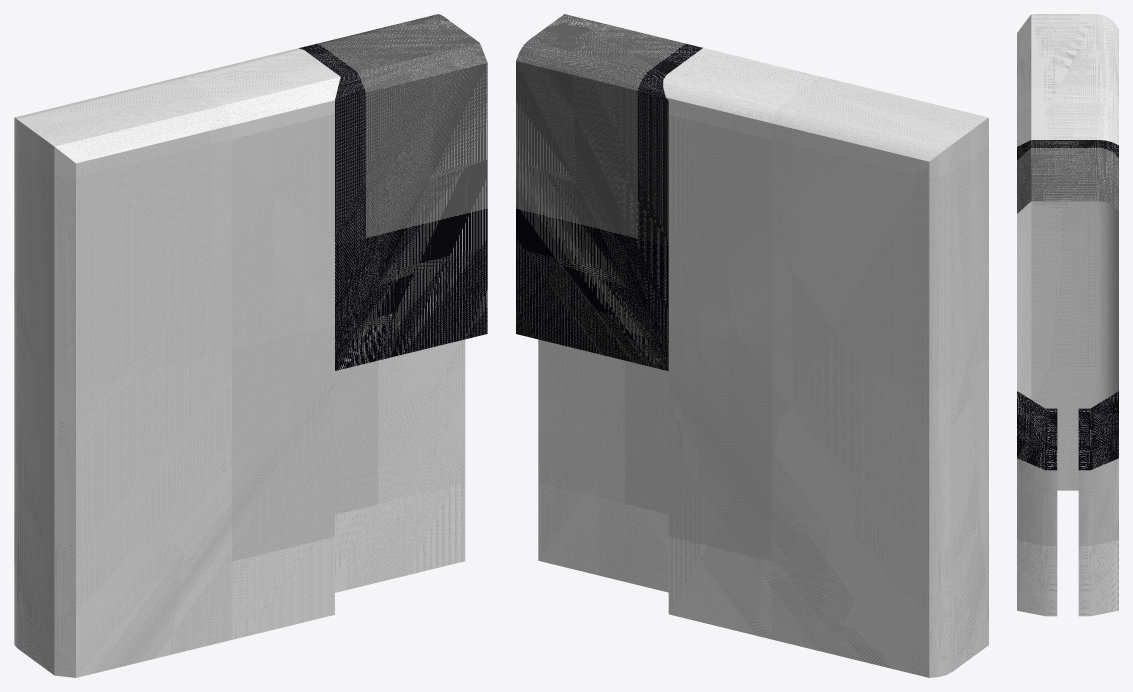
The model's file is original-26.obj.
3 renders of one model, left to right at view 1: azimuth 30°, elevation 25°; view 2: azimuth 150°, elevation 25°; view 3: azimuth 270°, elevation 25°, orthographic. The views are drawn at different scales.
Parts seen in each view (by area): view 1: LT_21_TL1/LT_21_TL/mesh20/mesh20-geometry#mesh20-geometry; view 2: LT_21_TL1/LT_21_TL/mesh20/mesh20-geometry#mesh20-geometry; view 3: LT_21_TL1/LT_21_TL/mesh20/mesh20-geometry#mesh20-geometry.
Part boxes in pixels (x1,y1,x2,y2): LT_21_TL1/LT_21_TL/mesh20/mesh20-geometry#mesh20-geometry: (14, 14, 487, 677); LT_21_TL1/LT_21_TL/mesh20/mesh20-geometry#mesh20-geometry: (516, 14, 988, 677); LT_21_TL1/LT_21_TL/mesh20/mesh20-geometry#mesh20-geometry: (1017, 14, 1118, 616).
Bounding box in the file's own units: 0.1192 × 0.1416 × 0.0274.
